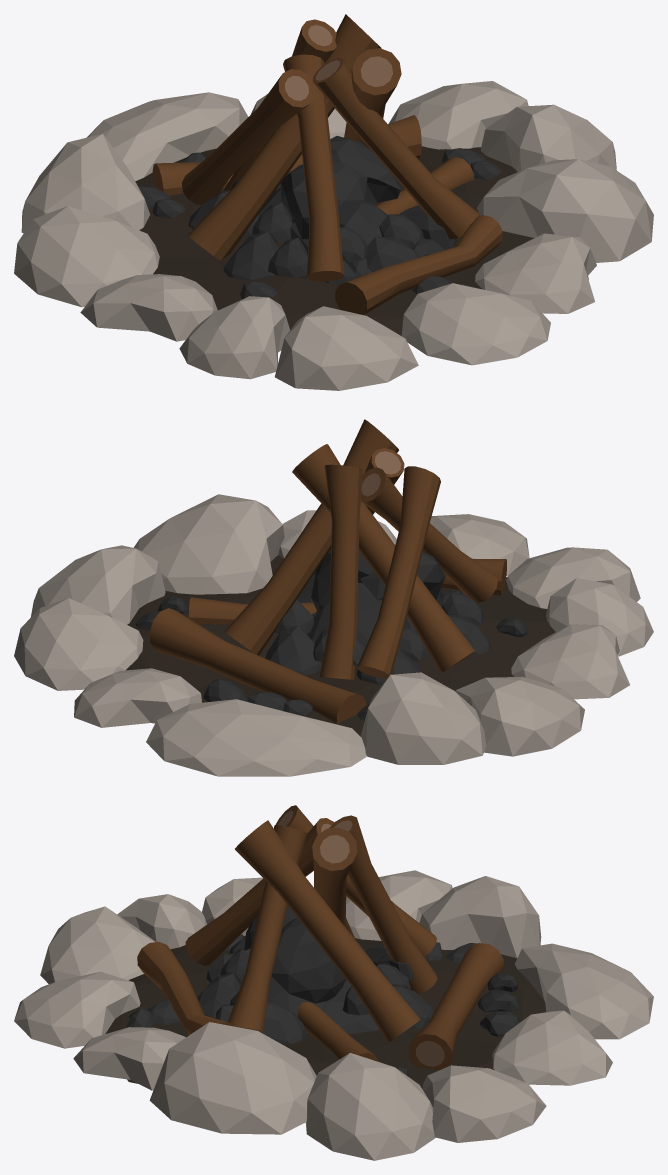
File: fire.glb
3 renders of one model, top to bottom at view 1: azimuth 30°, elevation 25°; view 2: azimuth 150°, elevation 25°; view 3: azimuth 270°, elevation 25°, orthographic. The views are drawn at different scales.
Visible parts, largest first — view 1: Icosphere.052; view 2: Icosphere.052; view 3: Icosphere.052.
Part boxes in pixels (box(x1,y1,x2,y2)): Icosphere.052: box(14, 14, 653, 390); Icosphere.052: box(14, 419, 653, 776); Icosphere.052: box(14, 805, 653, 1160).
Bounding box in the file's own units: 1.39 × 0.532 × 1.43.
